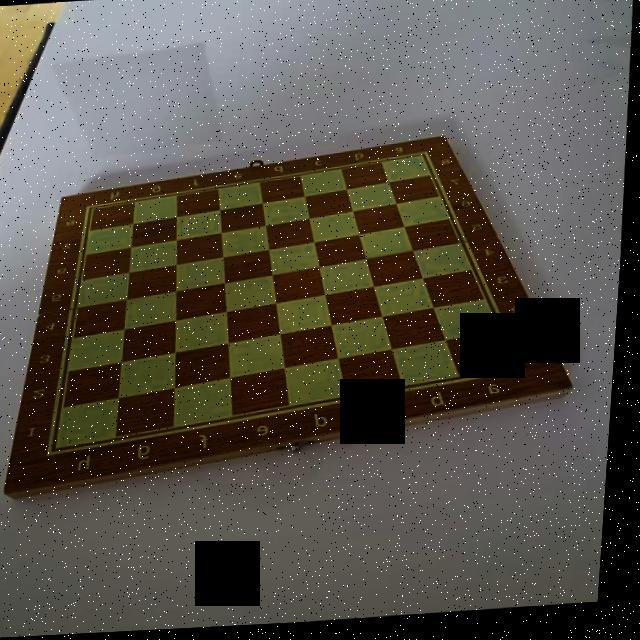chess-table-corners: (412, 148, 442, 168), (46, 443, 72, 459), (82, 202, 104, 216), (513, 366, 534, 378)
